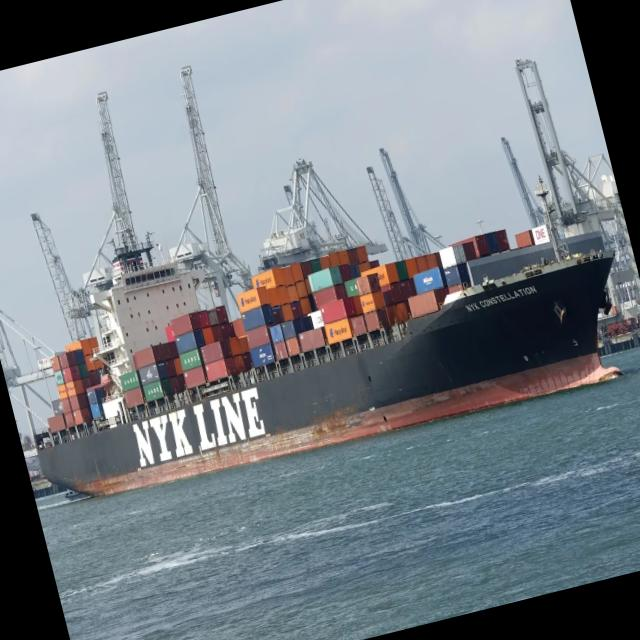Cargo: (39, 225, 620, 494)
